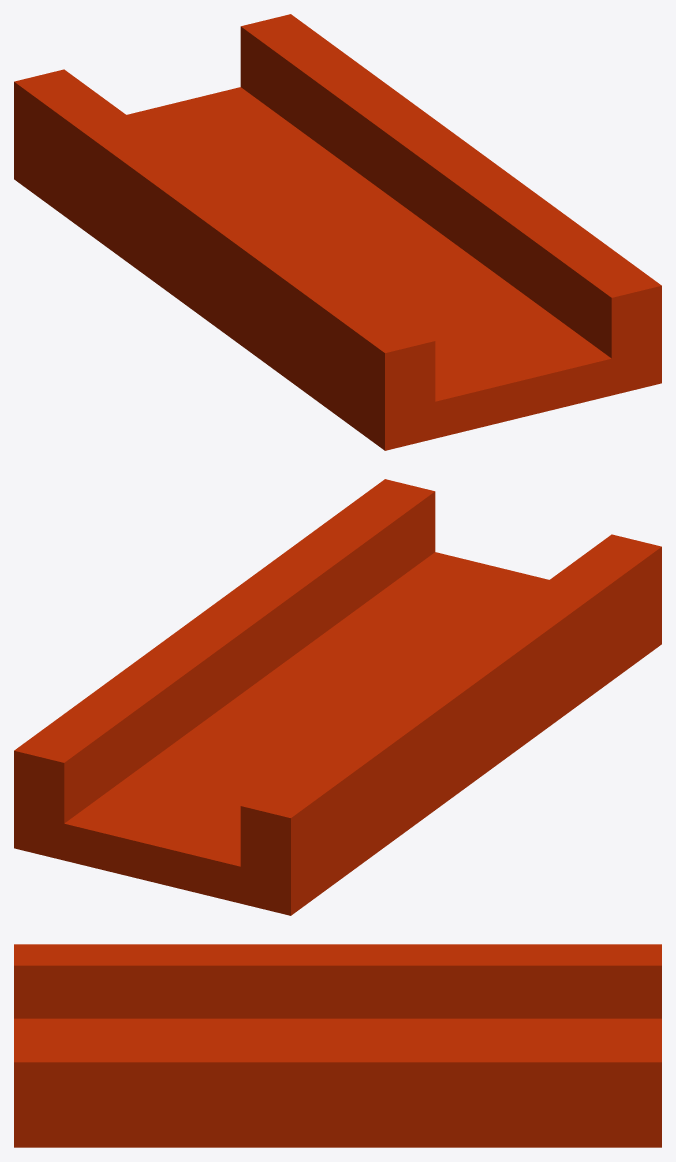
Rendered from Prop_Industrial_Beam_C_01.FBX.
3 views of the same model, one above another, from view 1: azimuth 30°, elevation 25°; view 2: azimuth 150°, elevation 25°; view 3: azimuth 270°, elevation 25° (orthographic). The views are drawn at different scales.
Parts seen in each view (by area): view 1: Prop_Industrial_Beam_C_01; view 2: Prop_Industrial_Beam_C_01; view 3: Prop_Industrial_Beam_C_01.
Part boxes in pixels (x1,y1,x2,y2): Prop_Industrial_Beam_C_01: (14, 14, 661, 450); Prop_Industrial_Beam_C_01: (14, 479, 661, 915); Prop_Industrial_Beam_C_01: (14, 944, 661, 1147).
Size of the model in its own units: 862 by 290 by 2000.
